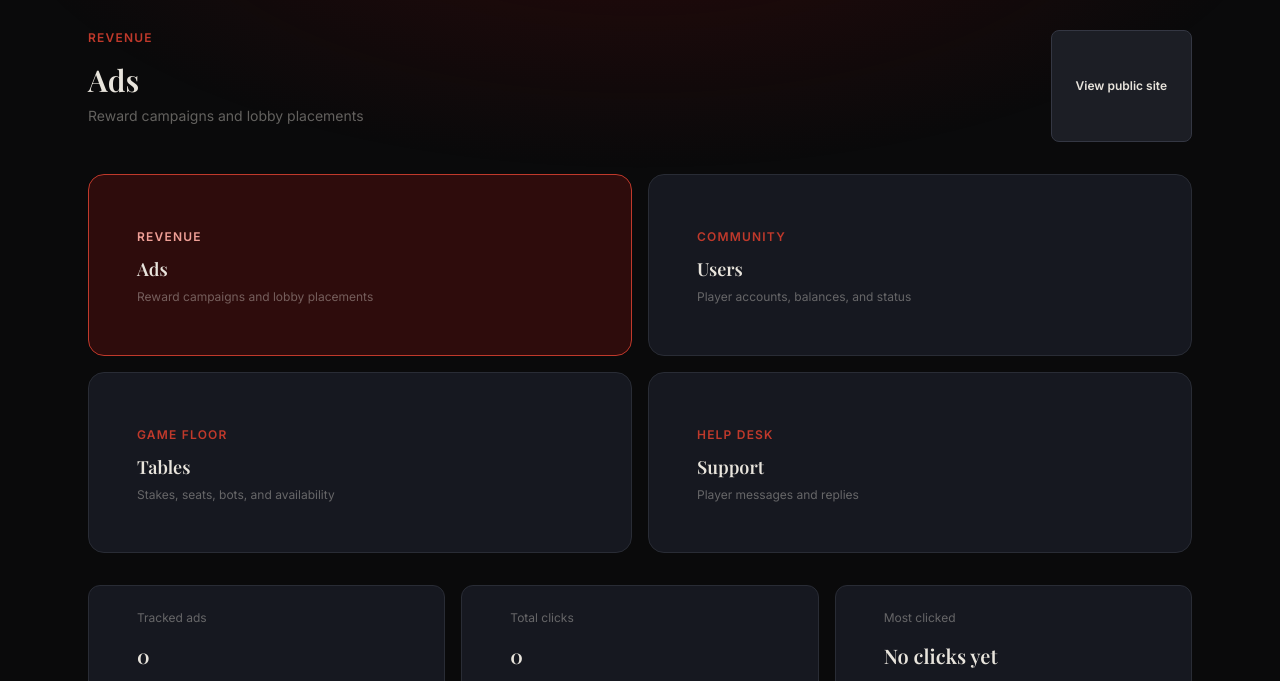
Test case: AdminDashboard: record text › users show email, chips and wins
Click the button "Community Users Player accounts, balances, and status": point(741, 236) [648, 174, 1192, 356]
(page scrolled)
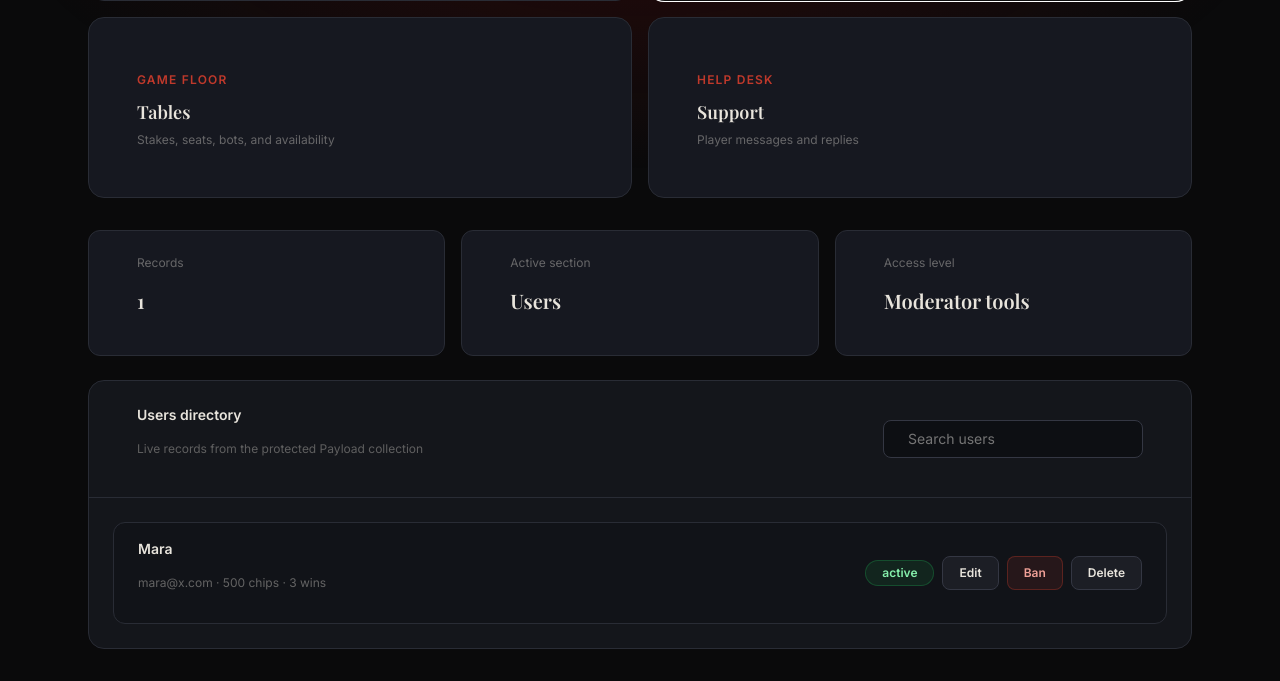
Expected: the text "Mara" is shown, [138, 540, 172, 557]
Expected: the text "mara@x.com · 500 chips · 3 wins" is shown, [138, 575, 326, 591]
